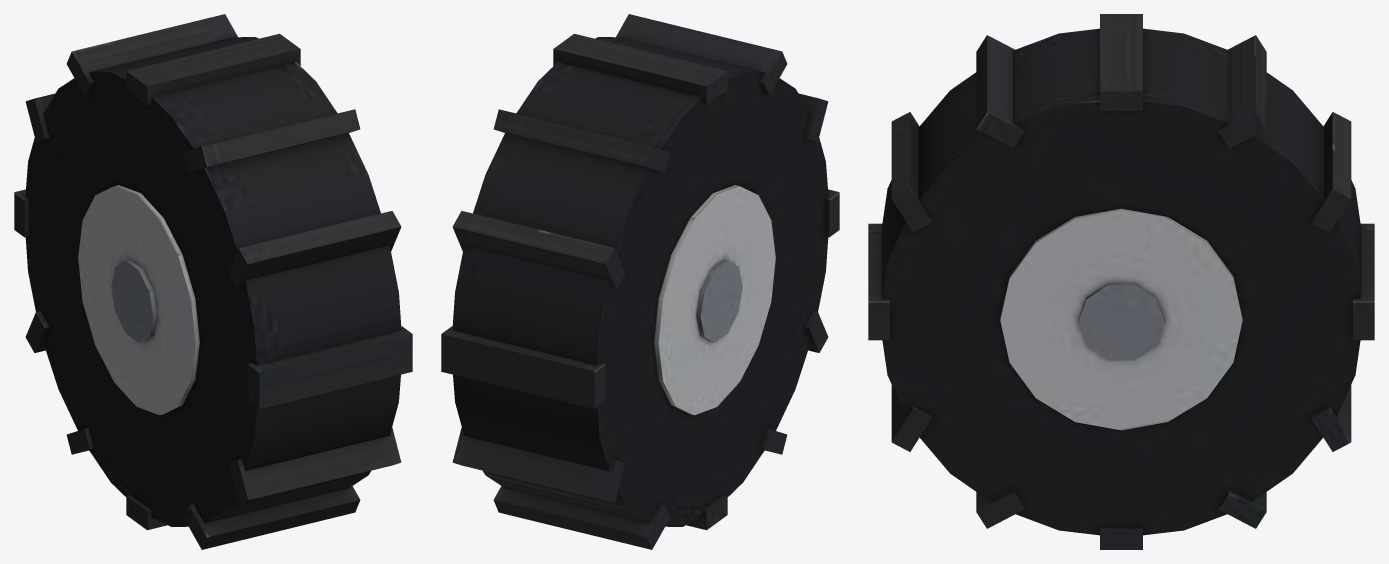
Rendered from rueda_loca.glb.
The picture shows the model from 3 angles, left to right: view 1: azimuth 30°, elevation 25°; view 2: azimuth 150°, elevation 25°; view 3: azimuth 270°, elevation 25°; orthographic projection. The views are drawn at different scales.
Parts seen in each view (by area): view 1: rueda_loca; view 2: rueda_loca; view 3: rueda_loca.
Part boxes in pixels (left/top/right/bottom): rueda_loca: left=14, top=14, right=412, bottom=549; rueda_loca: left=441, top=14, right=839, bottom=549; rueda_loca: left=868, top=14, right=1374, bottom=549.
Size of the model in its own units: 0.36 by 0.94 by 0.94.
1 material, 1 textured.
